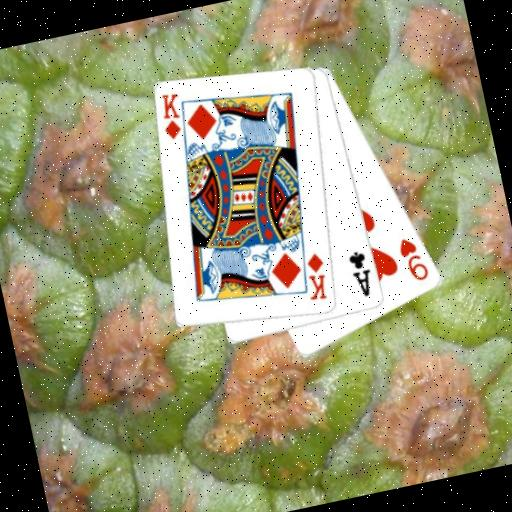9H: (394, 231, 432, 286)
AC: (345, 246, 378, 300)
KD: (298, 248, 333, 304), (154, 88, 188, 142)
